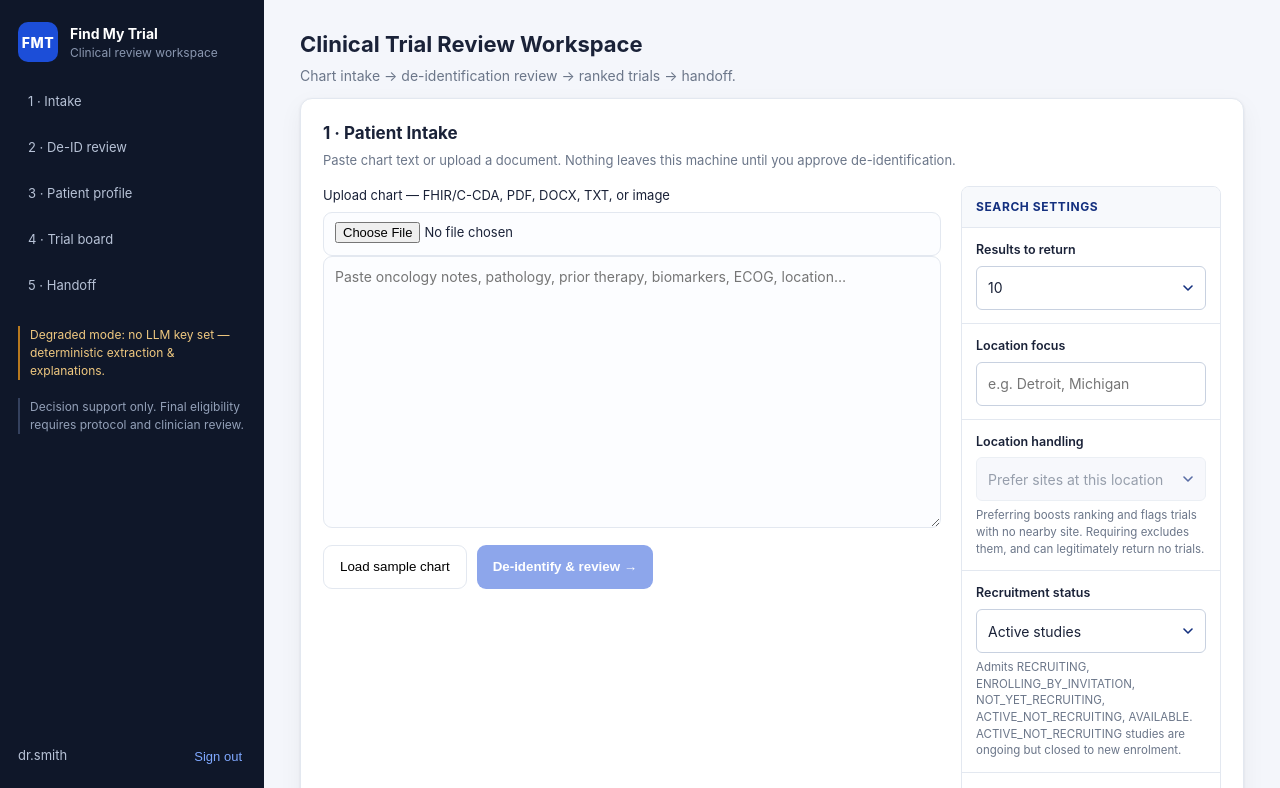
Test: error identity › shows the server-issued error_id so a user can report without pasting chart text
Expected: the heading "Clinical Trial Review Workspace" is shown, [300,31,643,57]
Replace the text in the text box named "chart text" with "secret-chart-text" at (632, 392), box [323,256,941,528]
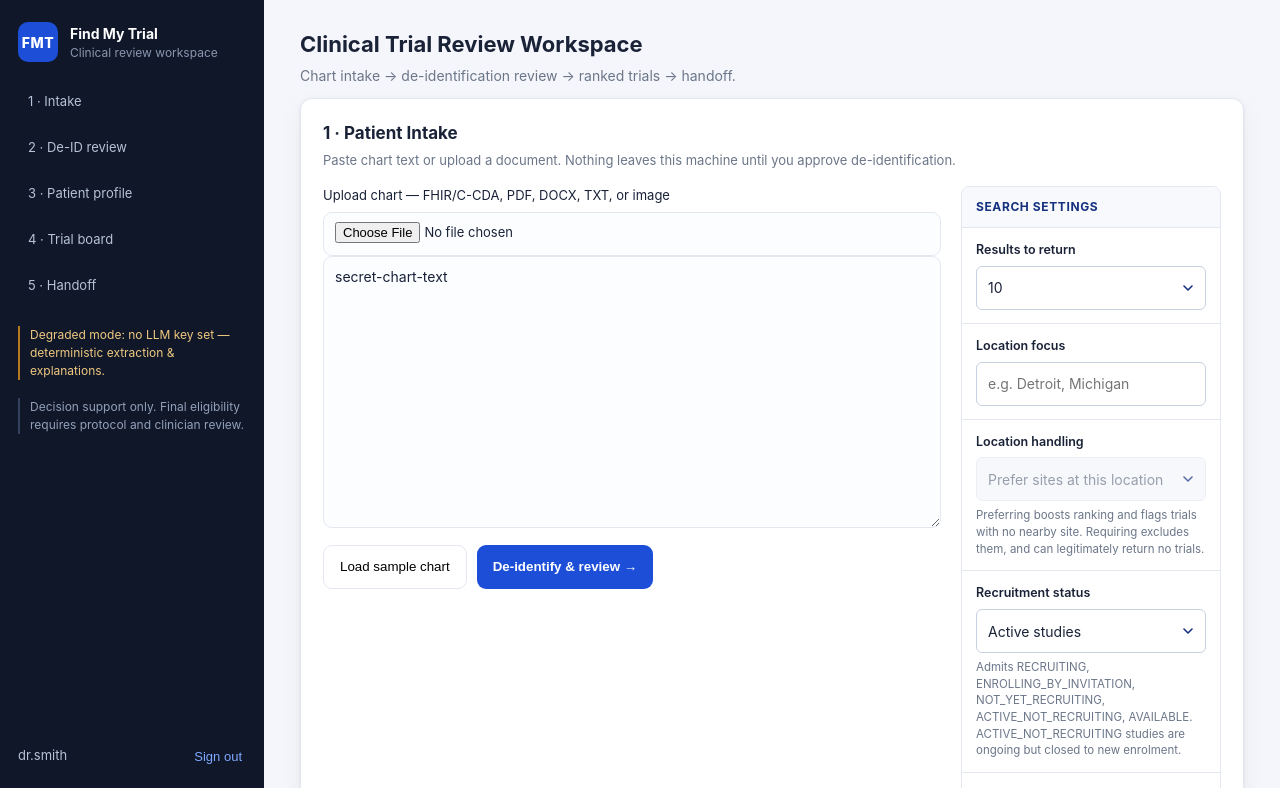
Click the button "De-identify & review →" at (565, 566), box [477,544,653,588]
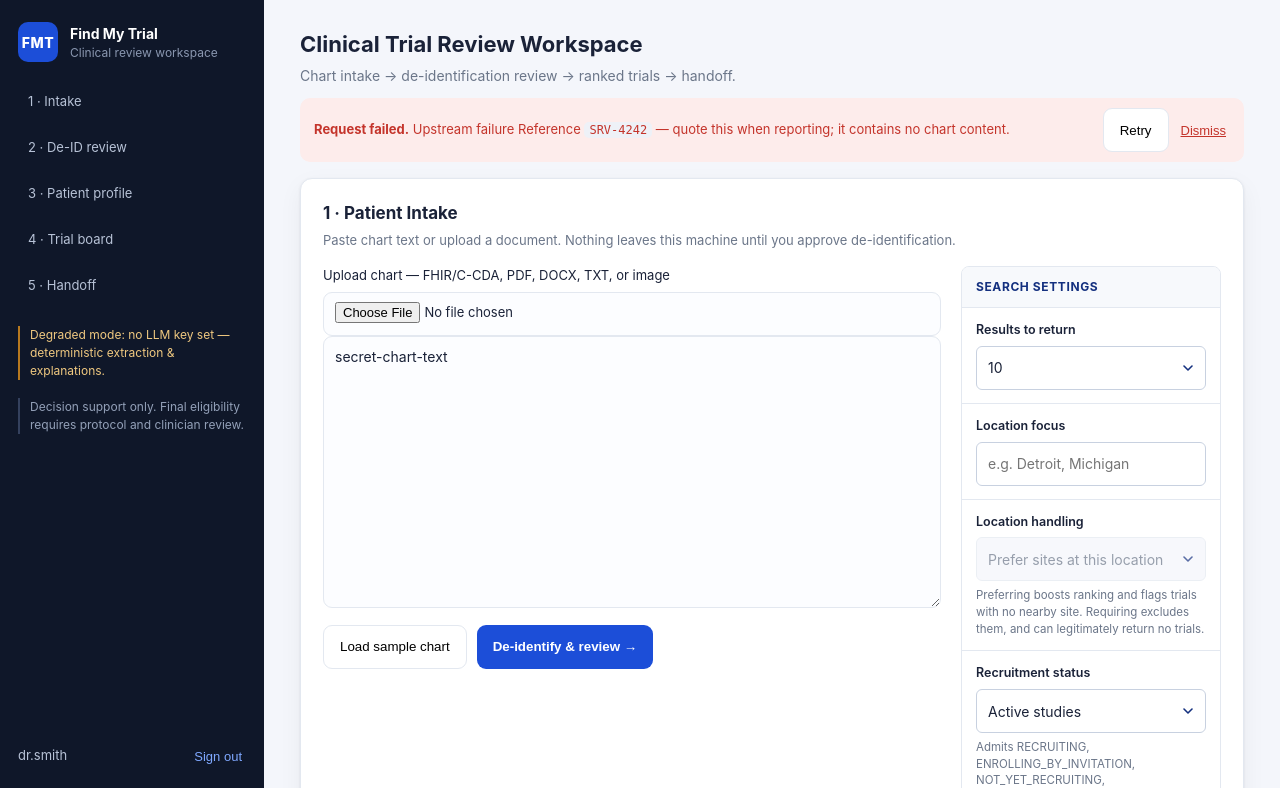
Expected: the message does not show "secret-chart-text"
Result: the message shows "SRV-4242" at [589,123,647,137]
